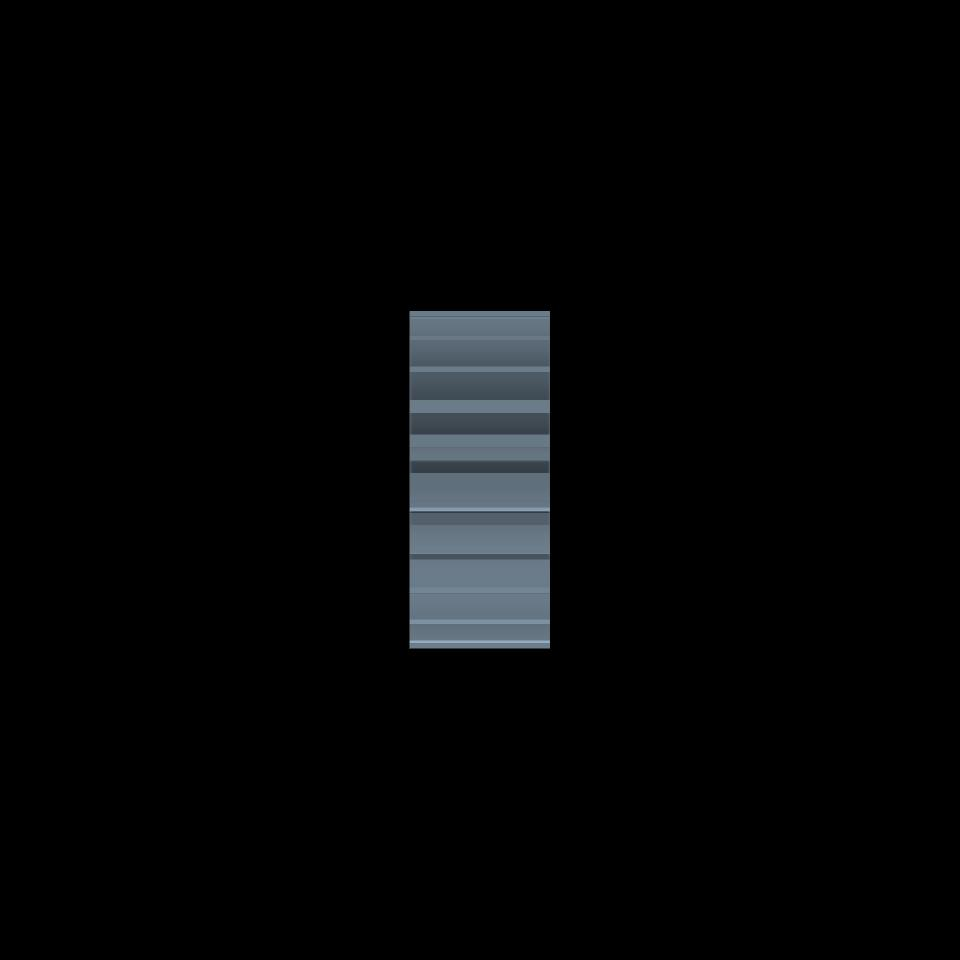Straight: (408, 310, 549, 647)
